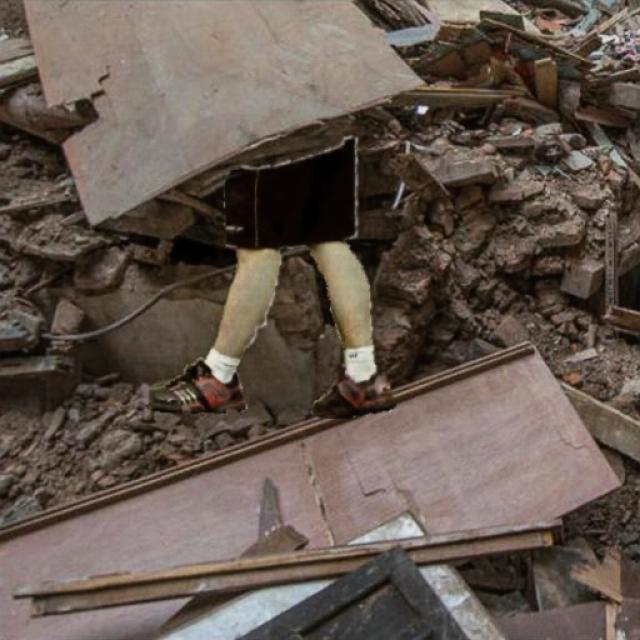Person in Rubble: (149, 136, 395, 418)
